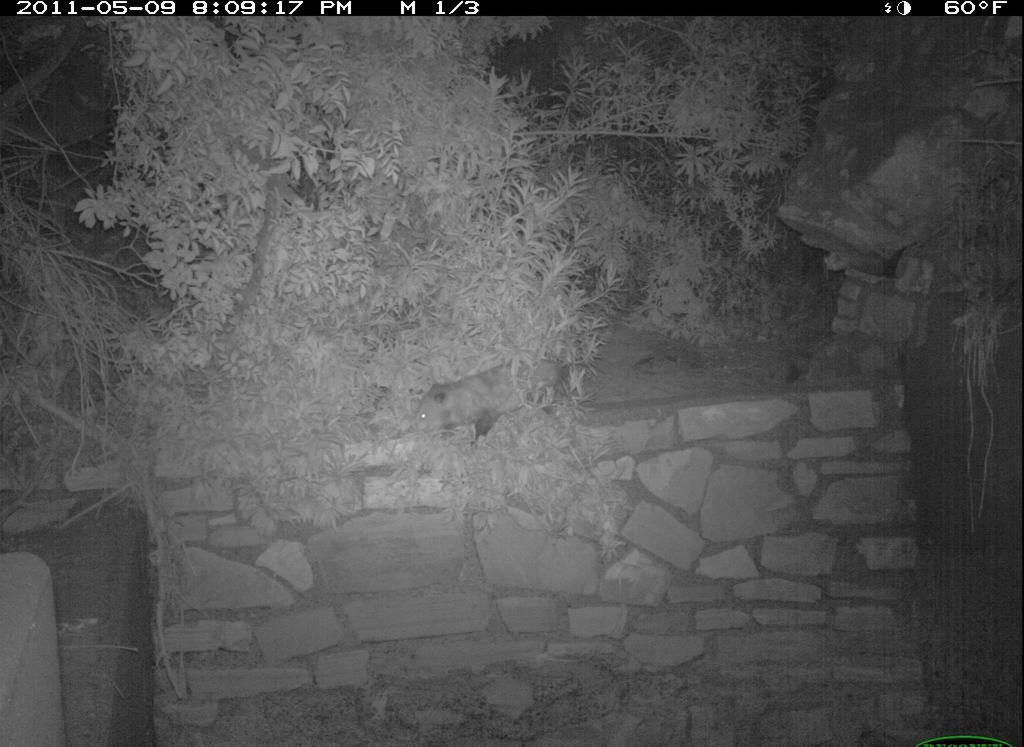opossum: (402, 349, 611, 438)
